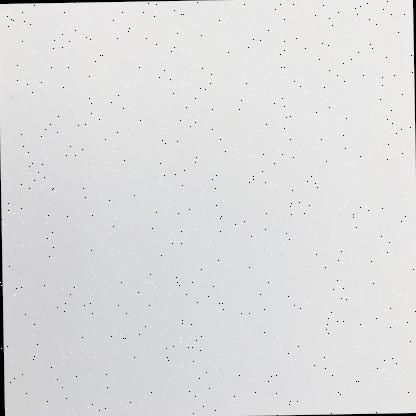Nocrack: (2, 8, 410, 410)
